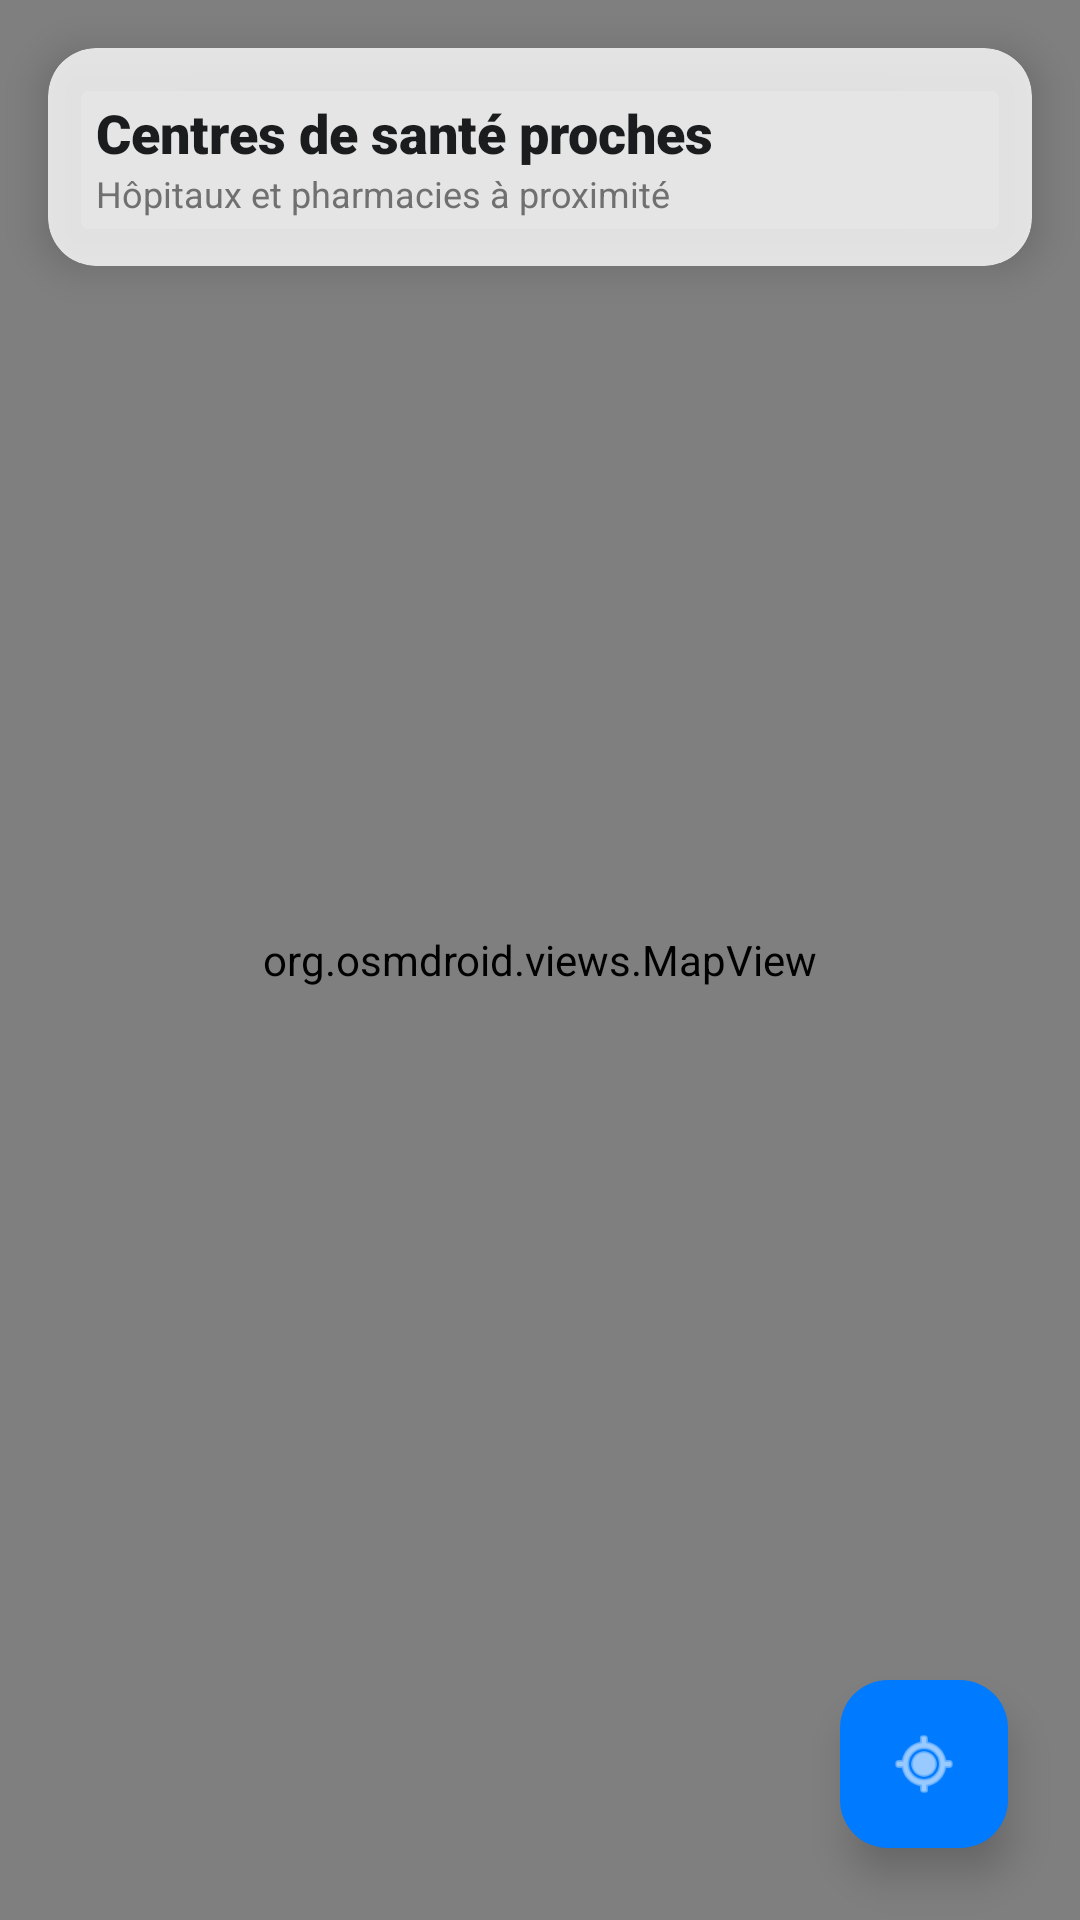

Icons on this 1080w x 1920h Android screen, each with its box as (x1, y1, x2, y2):
mylocation: (840, 1680, 1008, 1848)
